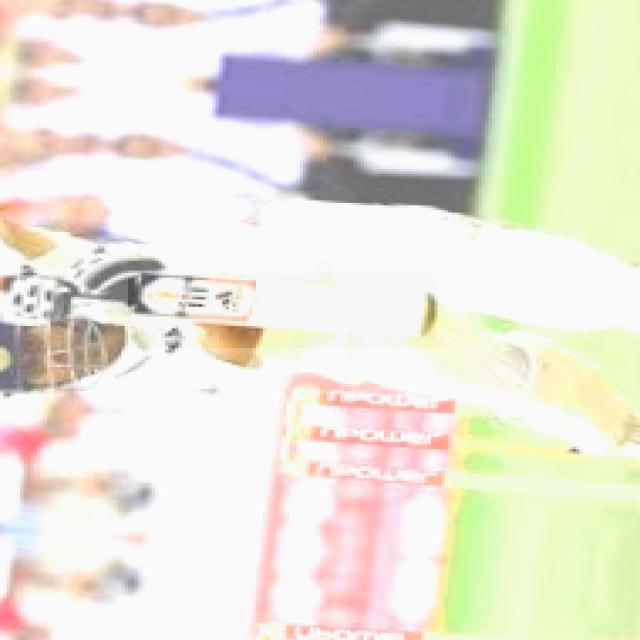bat: (131, 277, 442, 338)
toe: (419, 291, 439, 335)
